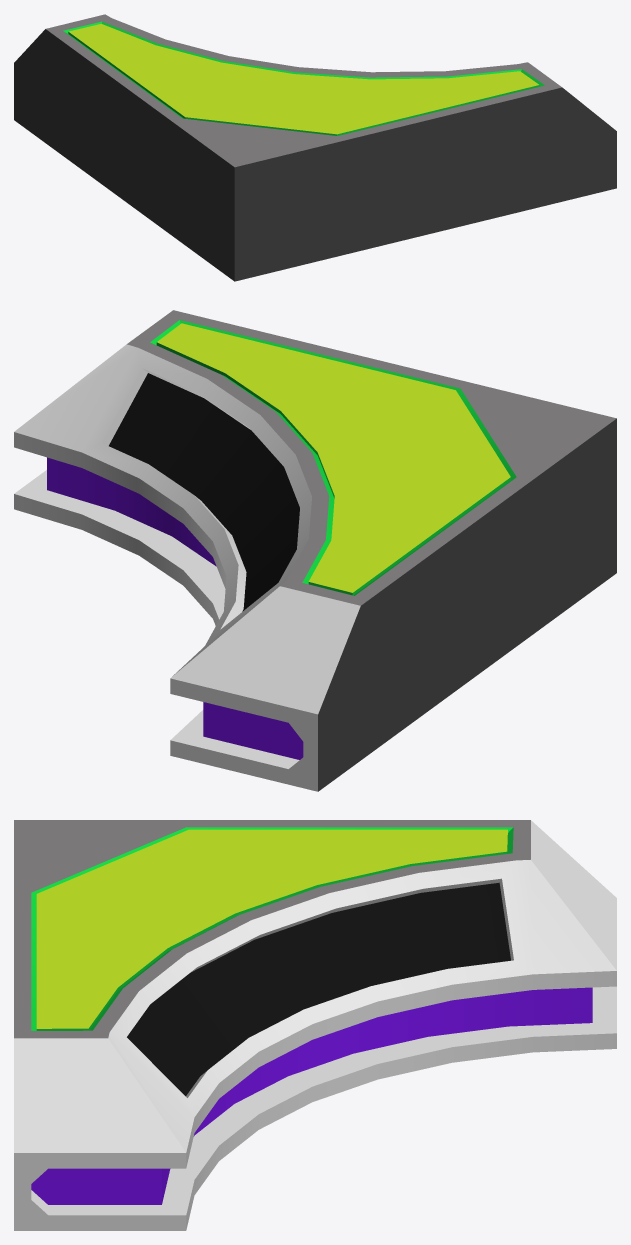
The model's file is PlatformBorder00_2.5InteriorCorner.fbx.
3 renders of one model, top to bottom at view 1: azimuth 30°, elevation 25°; view 2: azimuth 150°, elevation 25°; view 3: azimuth 270°, elevation 25°, orthographic. The views are drawn at different scales.
Visible parts, largest first — view 1: PlatformBorder00_2.5InteriorCorner; view 2: PlatformBorder00_2.5InteriorCorner; view 3: PlatformBorder00_2.5InteriorCorner.
Boxes of the visible parts, x1=… form: PlatformBorder00_2.5InteriorCorner: x1=14, y1=14, x2=616, y2=281; PlatformBorder00_2.5InteriorCorner: x1=14, y1=310, x2=616, y2=791; PlatformBorder00_2.5InteriorCorner: x1=14, y1=820, x2=616, y2=1230.
Bounding box in the file's own units: 350 × 100 × 350.
